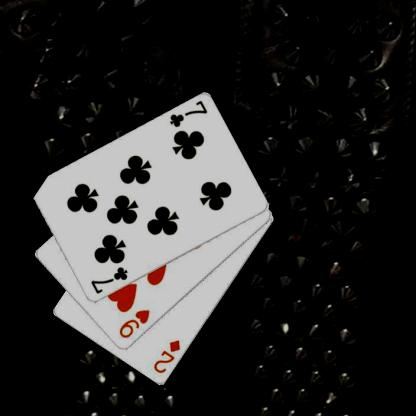2D: (151, 338, 182, 376)
7C: (166, 98, 209, 129), (88, 264, 129, 296)
9H: (116, 307, 152, 340)
